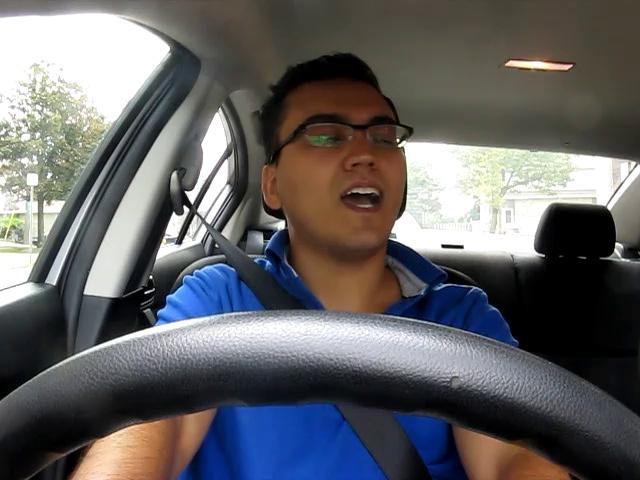close_eyeL: (295, 126, 353, 157)
close_eyeR: (365, 121, 410, 156)
yawn: (326, 177, 398, 218)
